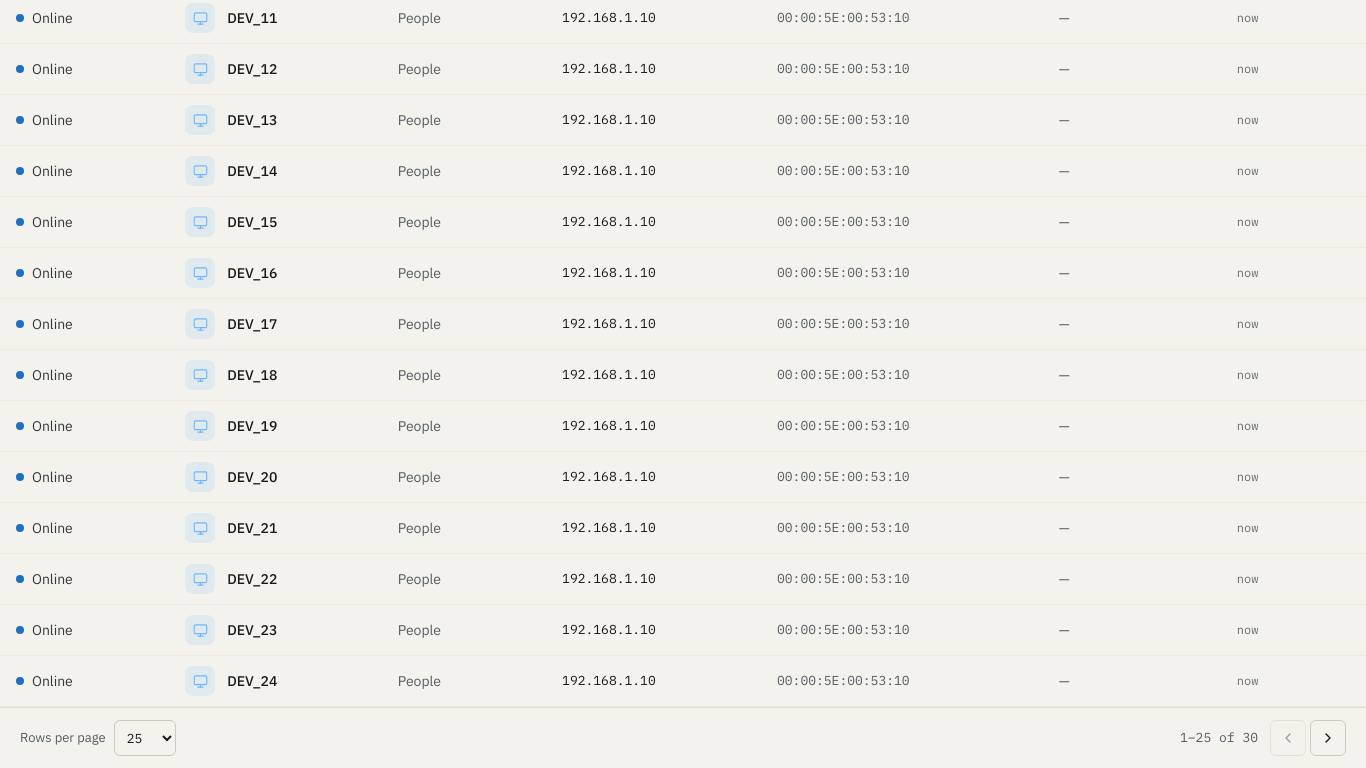
Test: DeviceTable › pages through every device and remembers the page size
(page scrolled)
Expected: the text "1–25 of 30" is shown, top-left (1180, 728), bottom-right (1258, 748)
Click the button named "Next page": (1328, 738) top-left (1310, 720), bottom-right (1346, 756)
(page scrolled)
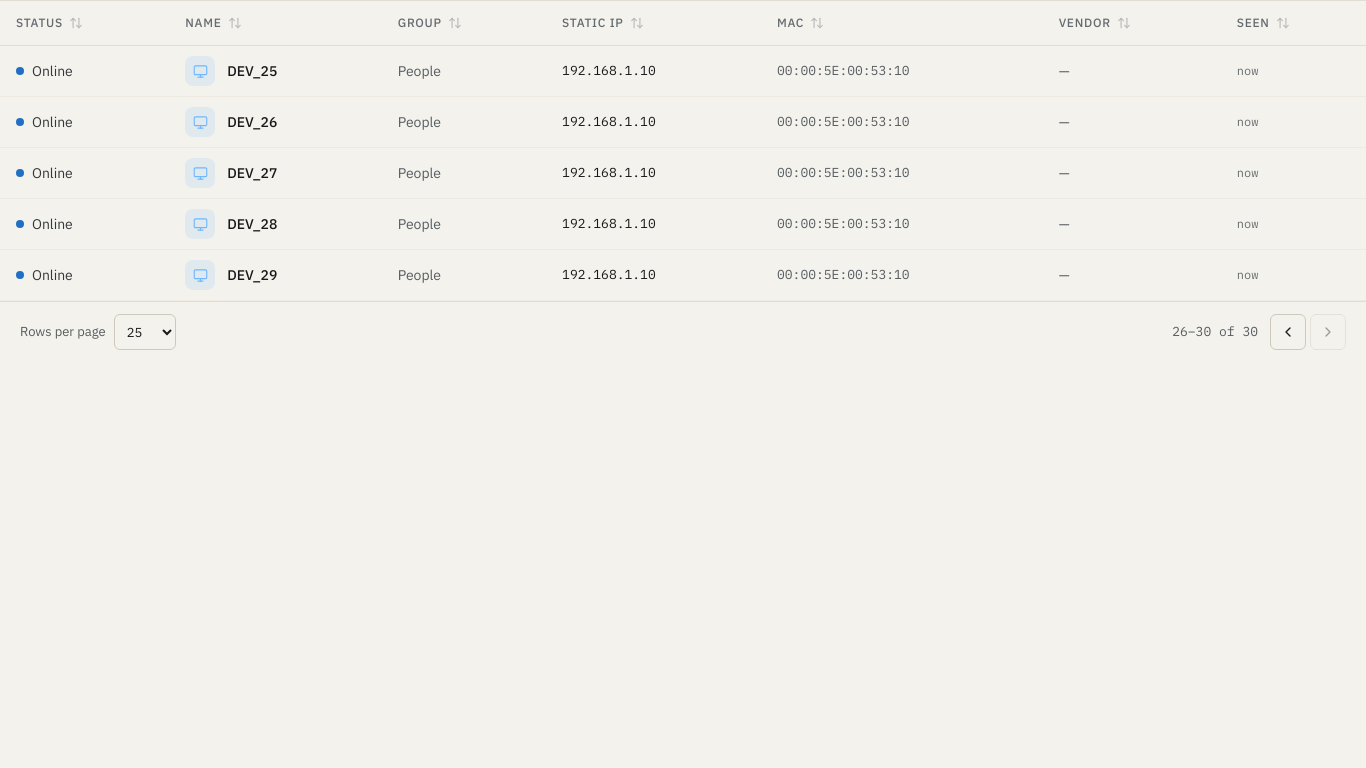
Result: the links read "DEV_25", "DEV_26", "DEV_27", "DEV_28", "DEV_29", in this order at top-left (227, 61), bottom-right (278, 81); top-left (227, 112), bottom-right (278, 132); top-left (227, 163), bottom-right (278, 183); top-left (227, 214), bottom-right (278, 234); top-left (227, 265), bottom-right (278, 285)
Select "50" in the dropdown labelled "Rows per page": (145, 332) top-left (114, 314), bottom-right (176, 350)
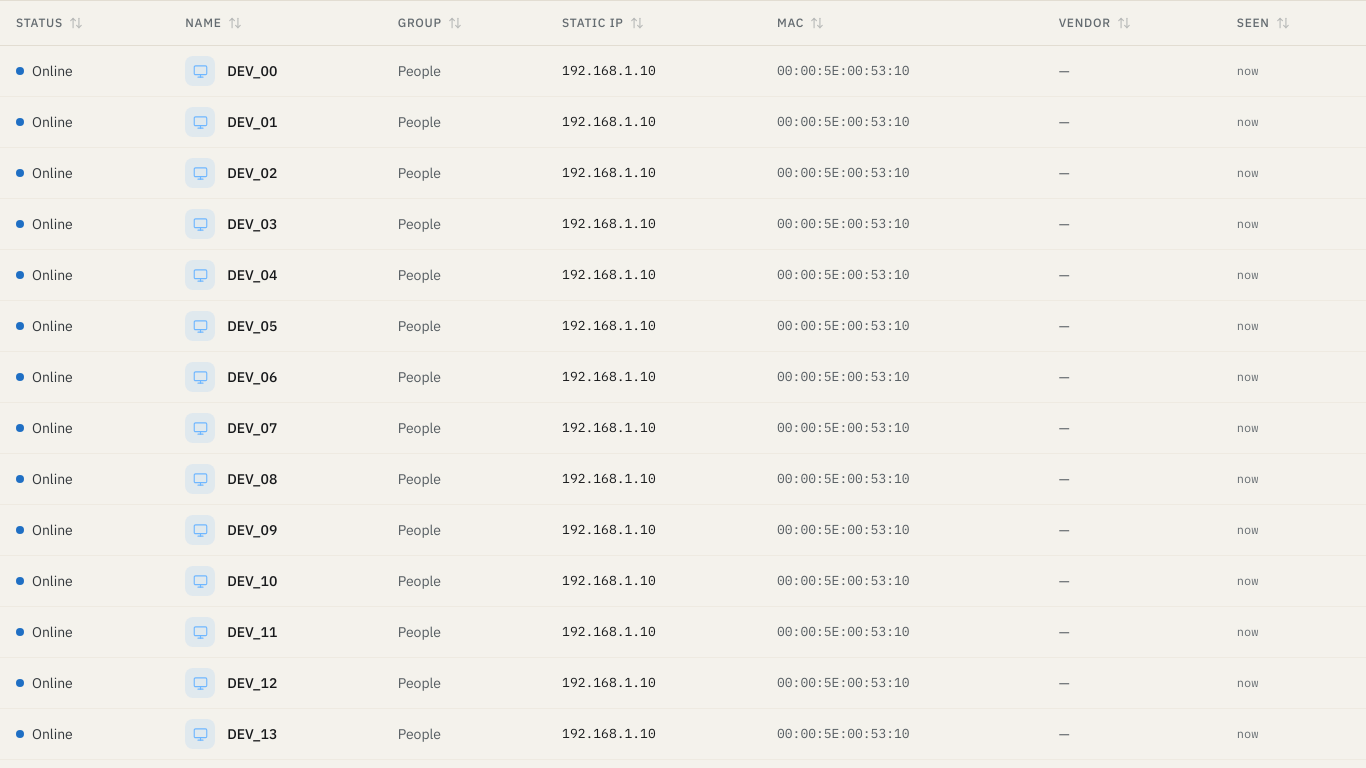
Result: the number of links is 30
